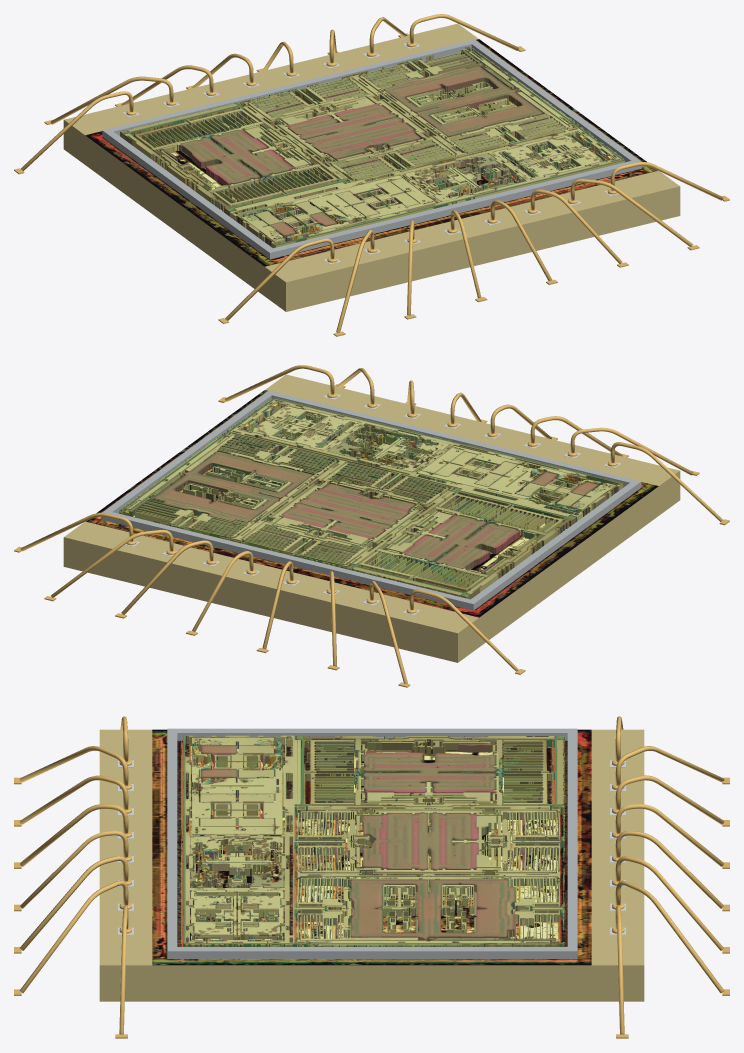
The model's file is mpu6050.glb.
3 views of the same model, one above another, from view 1: azimuth 30°, elevation 25°; view 2: azimuth 150°, elevation 25°; view 3: azimuth 270°, elevation 25° (orthographic). The views are drawn at different scales.
Visible parts, largest first — view 1: cmos_die, seal_ring, gyro_x_masses, gyro_z_masses, gyro_z_frame, gyro_x_frame, accel_z_frame, gyro_y_frame, gyro_y_masses, cmos_face, accel_x_frame, accel_y_frame (+13 smaller); view 2: cmos_die, seal_ring, gyro_x_masses, gyro_z_frame, gyro_x_frame, gyro_y_frame, gyro_z_masses, accel_z_frame, gyro_y_masses, cmos_face, accel_x_frame, accel_y_frame (+12 smaller); view 3: cmos_die, cmos_face, seal_ring, gyro_x_masses, gyro_z_masses, gyro_z_frame, gyro_x_frame, accel_z_frame, gyro_y_masses, gyro_y_frame, accel_x_frame, accel_y_frame (+18 smaller).
Part boxes in pixels (x1,y1,x2,y2): cmos_die: [63, 23, 680, 311]; seal_ring: [102, 39, 642, 259]; gyro_x_masses: [120, 101, 349, 215]; gyro_z_masses: [352, 47, 578, 153]; gyro_z_frame: [354, 48, 575, 155]; gyro_x_frame: [124, 102, 353, 209]; accel_z_frame: [229, 171, 440, 247]; gyro_y_frame: [248, 76, 461, 181]; gyro_y_masses: [245, 74, 456, 180]; cmos_face: [85, 39, 657, 266]; accel_x_frame: [490, 127, 624, 184]; accel_y_frame: [397, 149, 534, 203]; cmos_die: [63, 374, 680, 662]; seal_ring: [101, 390, 641, 610]; gyro_x_masses: [341, 488, 575, 599]; gyro_z_frame: [125, 433, 342, 540]; gyro_x_frame: [343, 487, 568, 598]; gyro_y_frame: [236, 461, 448, 565]; gyro_z_masses: [119, 432, 339, 541]; accel_z_frame: [411, 443, 622, 521]; gyro_y_masses: [234, 463, 446, 567]; cmos_face: [86, 390, 658, 617]; accel_x_frame: [227, 397, 362, 453]; accel_y_frame: [319, 419, 454, 476]; cmos_die: [99, 729, 644, 1001]; cmos_face: [152, 729, 591, 965]; seal_ring: [167, 728, 577, 958]; gyro_x_masses: [297, 736, 564, 815]; gyro_z_masses: [297, 875, 565, 946]; gyro_z_frame: [297, 875, 562, 946]; gyro_x_frame: [297, 736, 566, 817]; accel_z_frame: [181, 735, 297, 836]; gyro_y_masses: [297, 810, 564, 876]; gyro_y_frame: [297, 810, 564, 875]; accel_x_frame: [181, 890, 297, 946]; accel_y_frame: [181, 835, 297, 891].
Size of the model in its own units: 0.00357 by 0.000386 by 0.00357.
Materials: 11 (7 with a texture image).
